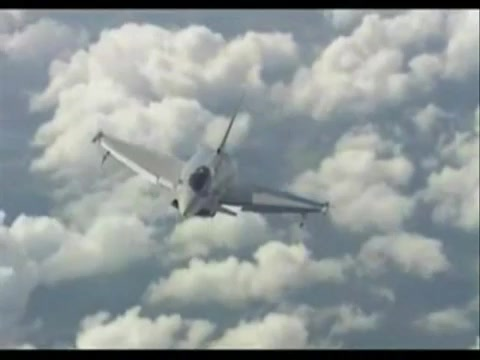aeroplane: (93, 90, 332, 231)
